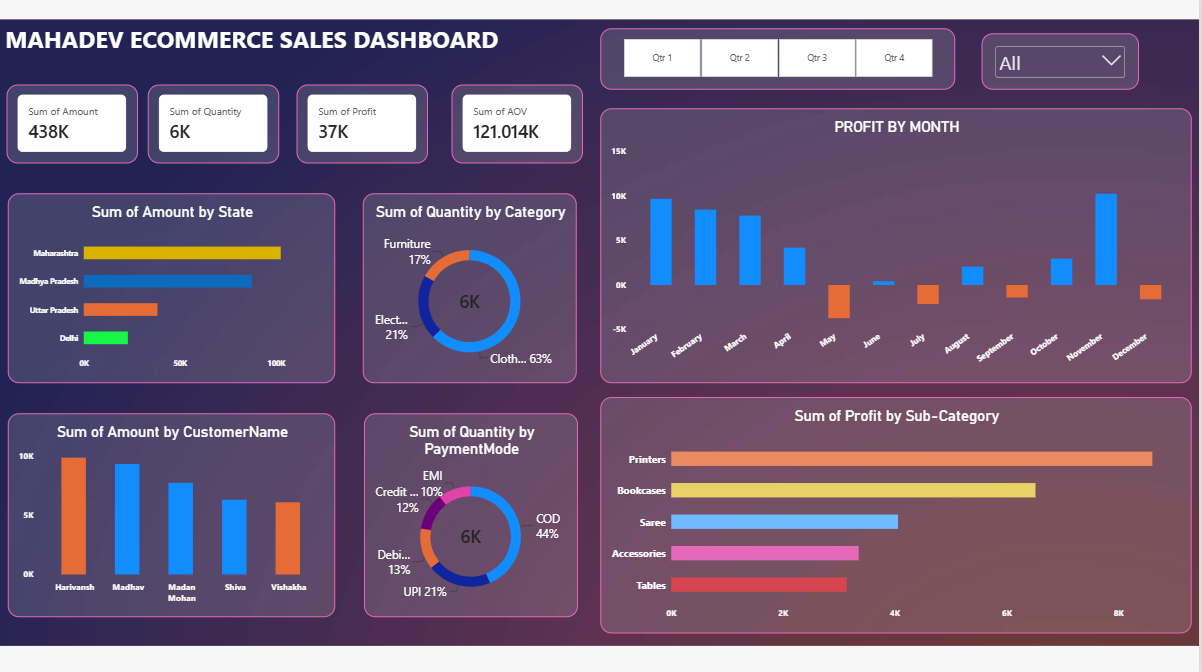

The dashboard page shown, as its layout file describes it:
{"tool":"powerbi","page":{"name":"Page 1","canvas":[1920,1080],"ordinal":0},"visuals":[{"type":"textbox","box":[10,0,280,280],"z":0},{"type":"textbox","box":[10.9,41.6,818,57.9],"z":1000},{"type":"columnChart","title":"PROFIT BY MONTH","fields":{"Category":["Orders.Order Date.Variation.Date Hierarchy.Month"],"Y":["Sum(Details.Profit)"]},"box":[962,178,946,440],"z":2000},{"type":"clusteredBarChart","fields":{"Category":["Details.Sub-Category"],"Y":["Sum(Details.Profit)"]},"box":[962,640,946,378],"z":3000},{"type":"donutChart","fields":{"Category":["Details.Category"],"Y":["Sum(Details.Quantity)"]},"box":[582,314,342,304],"z":4000},{"type":"donutChart","fields":{"Category":["Details.PaymentMode"],"Y":["Sum(Details.Quantity)"]},"box":[584,666,342,326],"z":5000},{"type":"cardVisual","fields":{"Data":["Sum(Details.Amount)"]},"box":[12,140,210,126],"z":6000},{"type":"cardVisual","fields":{"Data":["Sum(Details.Quantity)"]},"box":[238,140,210,126],"z":7000},{"type":"cardVisual","fields":{"Data":["Sum(Details.Profit)"]},"box":[476,140,210,126],"z":8000},{"type":"cardVisual","fields":{"Data":["Sum(Details.AOV)"]},"box":[724,140,210,126],"z":9000},{"type":"clusteredBarChart","fields":{"Category":["Orders.State"],"Y":["Sum(Details.Amount)"]},"box":[14,314,524,304],"z":10000},{"type":"columnChart","fields":{"Category":["Orders.CustomerName"],"Y":["Sum(Details.Amount)"]},"box":[14,666,524,326],"z":11000},{"type":"slicer","fields":{"Values":["Orders.Order Date.Variation.Date Hierarchy.Quarter"]},"box":[962,50,568,98],"z":12000},{"type":"slicer","fields":{"Values":["Orders.State"]},"box":[1572,58,252,90],"z":13000}]}

Visuals, with their boxes in screenshot pixels (x1, y1, x2, y2), scaled from the page's 1920x1080 canvas onto the 1202x672 screenshot:
textbox: <bbox>6, 0, 182, 174</bbox>
textbox: <bbox>7, 26, 519, 62</bbox>
"PROFIT BY MONTH" columnChart: <bbox>602, 111, 1194, 385</bbox>
clusteredBarChart - Details.Sub-Category x Sum(Details.Profit): <bbox>602, 398, 1194, 633</bbox>
donutChart - Details.Category x Sum(Details.Quantity): <bbox>364, 195, 578, 385</bbox>
donutChart - Details.PaymentMode x Sum(Details.Quantity): <bbox>366, 414, 580, 617</bbox>
cardVisual - Sum(Details.Amount): <bbox>8, 87, 139, 166</bbox>
cardVisual - Sum(Details.Quantity): <bbox>149, 87, 280, 166</bbox>
cardVisual - Sum(Details.Profit): <bbox>298, 87, 429, 166</bbox>
cardVisual - Sum(Details.AOV): <bbox>453, 87, 585, 166</bbox>
clusteredBarChart - Orders.State x Sum(Details.Amount): <bbox>9, 195, 337, 385</bbox>
columnChart - Orders.CustomerName x Sum(Details.Amount): <bbox>9, 414, 337, 617</bbox>
slicer - Orders.Order Date.Variation.Date Hierarchy.Quarter: <bbox>602, 31, 958, 92</bbox>
slicer - Orders.State: <bbox>984, 36, 1142, 92</bbox>
